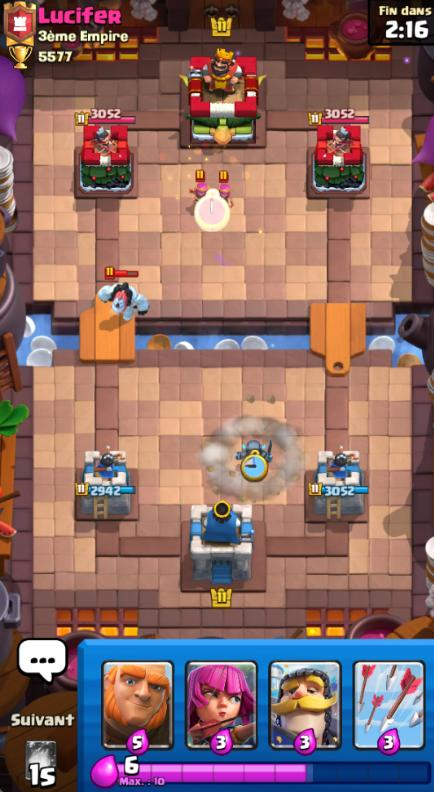archere: (189, 182, 209, 204), (218, 183, 235, 208)
mini_PEKKA: (236, 439, 275, 464)
